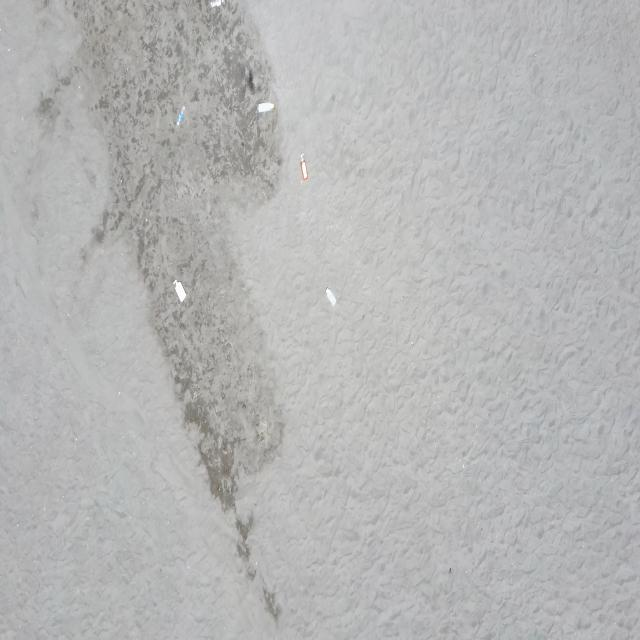plastic-bottle: (172, 278, 187, 304), (299, 150, 309, 182), (257, 100, 275, 115), (325, 286, 337, 307), (176, 104, 186, 126), (209, 0, 223, 8)
